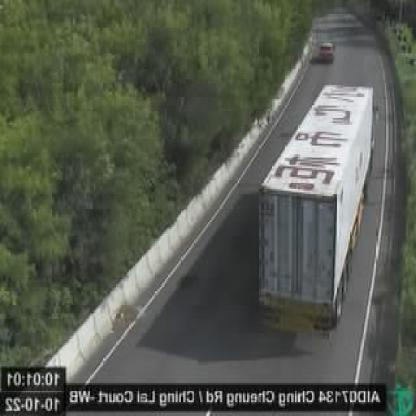Car: (319, 40, 335, 65)
Truck: (256, 83, 373, 349)
